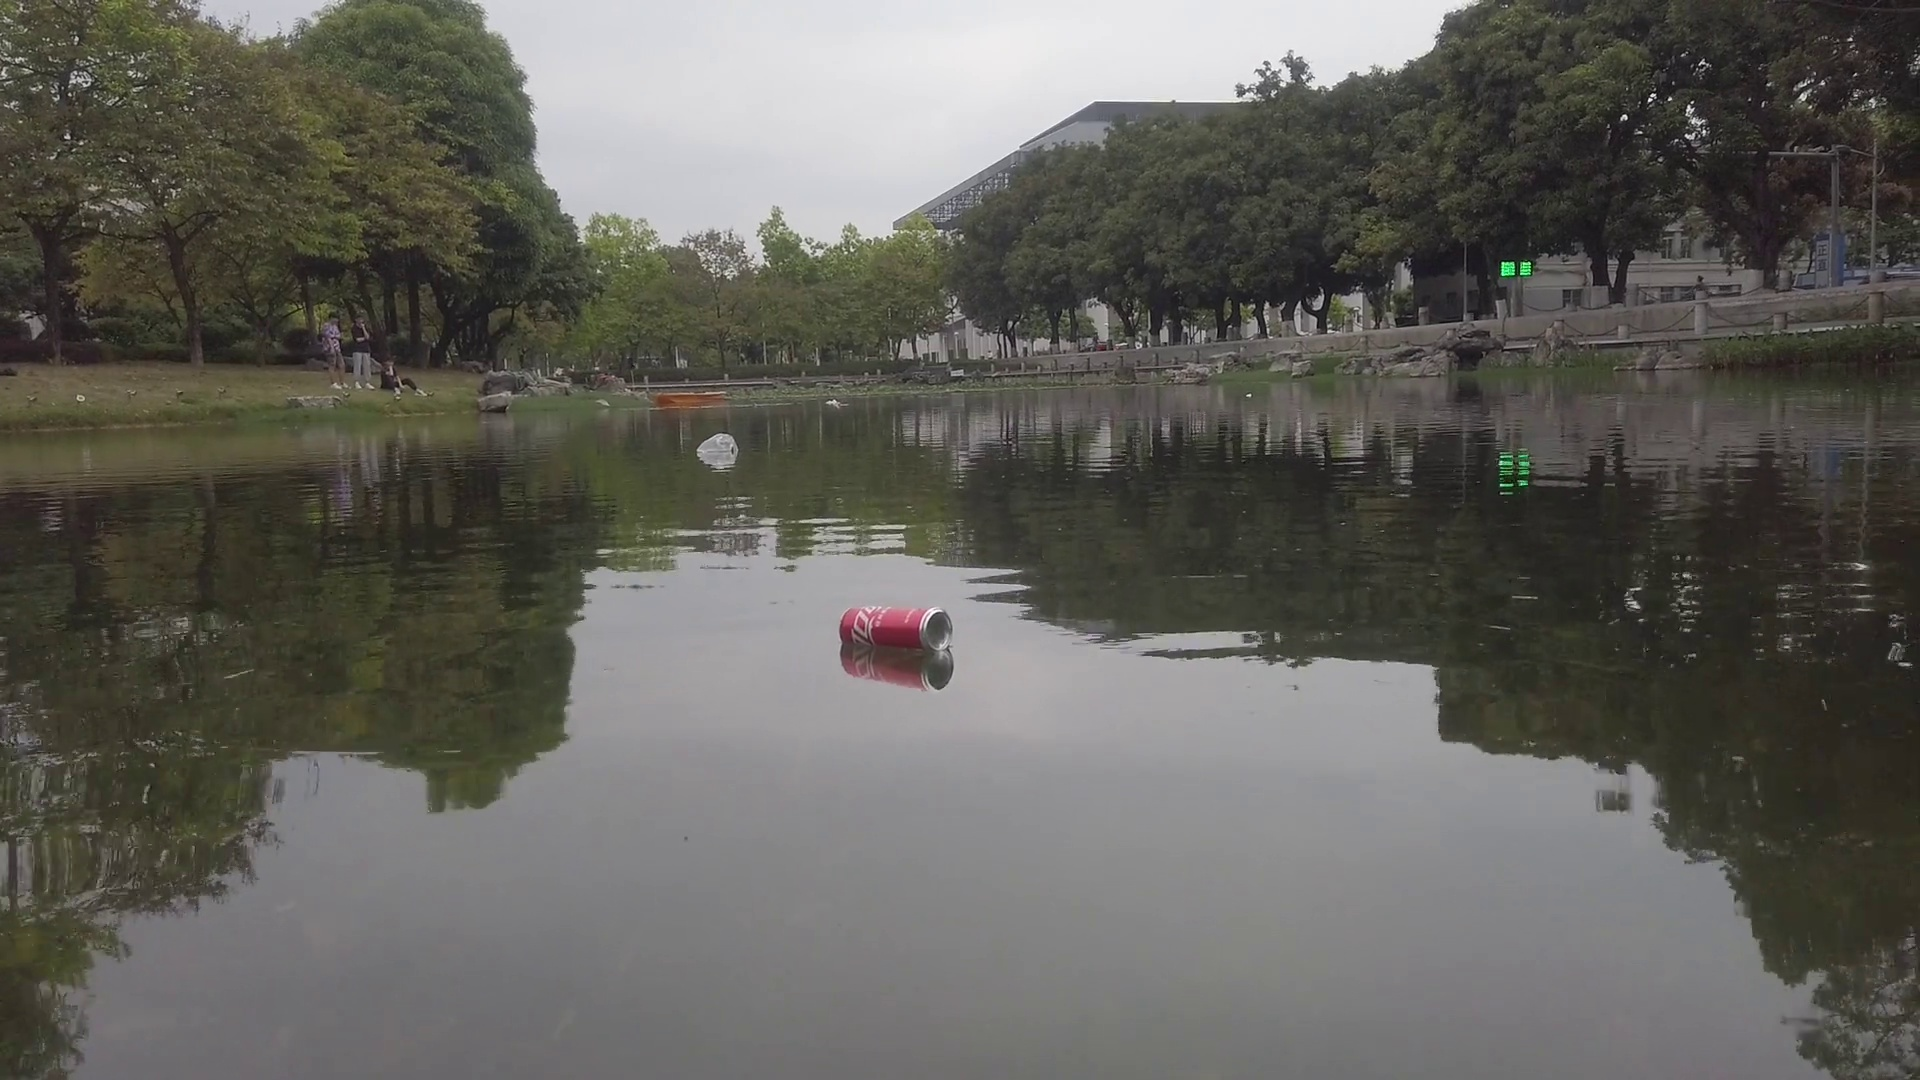bottle: (840, 601, 955, 654)
paper: (1244, 390, 1255, 400)
plastic: (698, 433, 735, 454), (823, 400, 837, 407)
